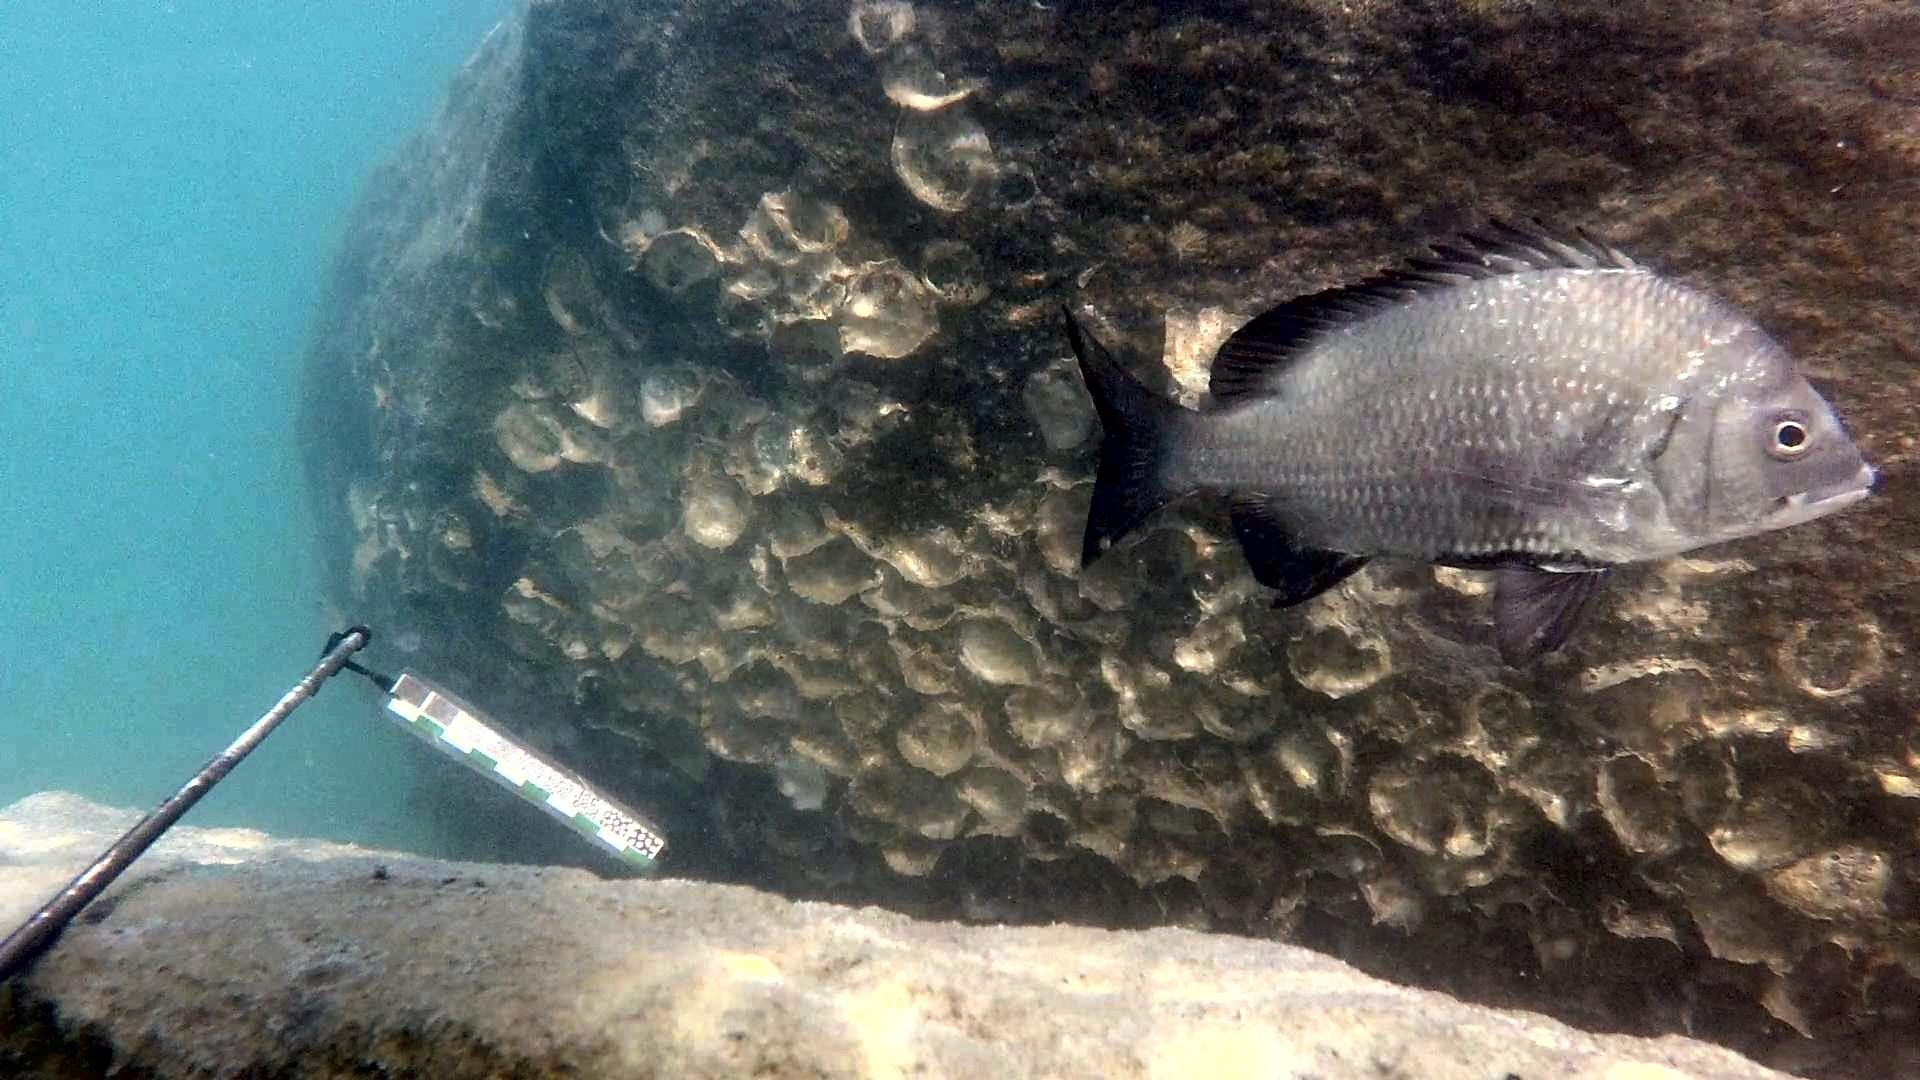acanthopagrus palmaris: (1048, 210, 1878, 675)
